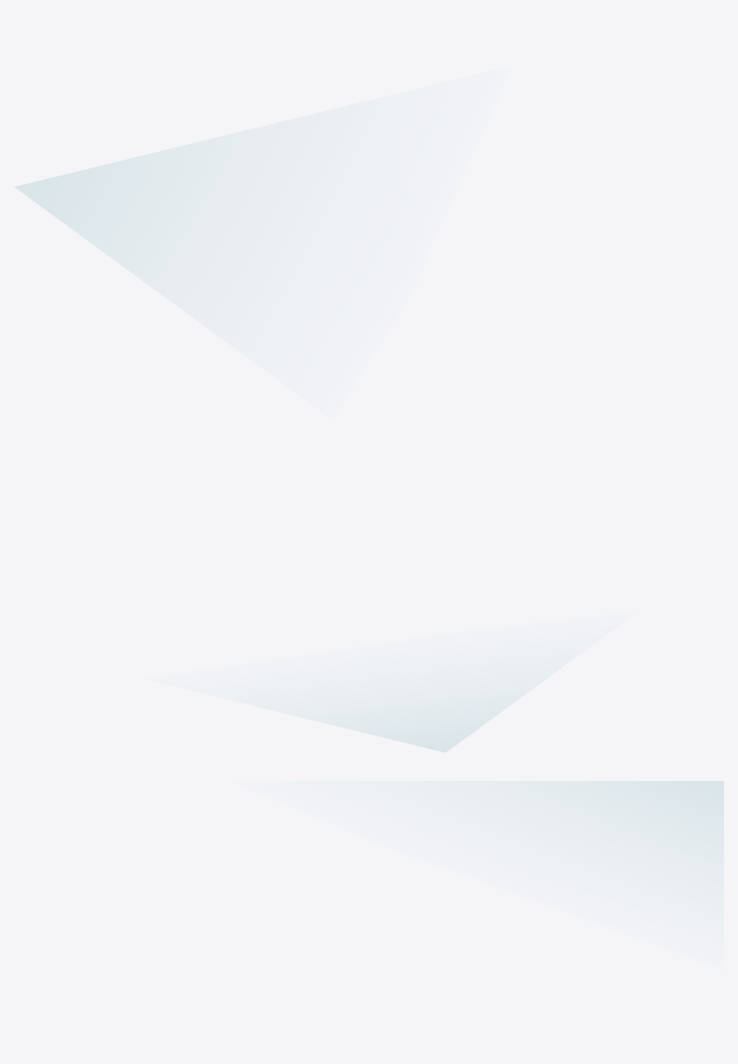
The picture shows the model from 3 angles, top to bottom: view 1: azimuth 30°, elevation 25°; view 2: azimuth 150°, elevation 25°; view 3: azimuth 270°, elevation 25°; orthographic projection. The views are drawn at different scales.
Parts seen in each view (by area): view 1: city; view 2: city; view 3: city.
Boxes of the visible parts, x1,y1,x2,y2 form: city: (15,146,181,260); city: (344,707,506,752); city: (566,781,723,844).
Bounding box in the file's own units: 157 × 0 × 175.
